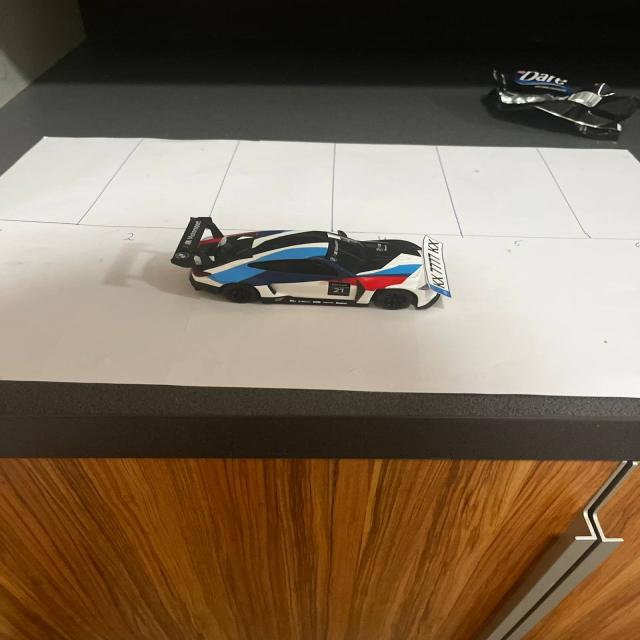cars: (155, 211, 478, 329)
